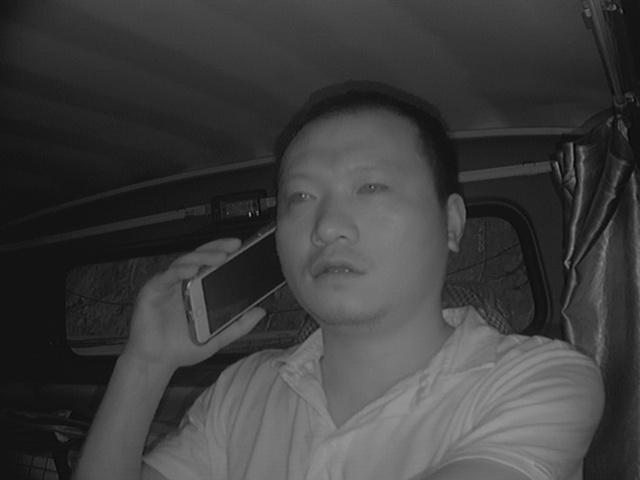hand: (132, 232, 254, 357)
